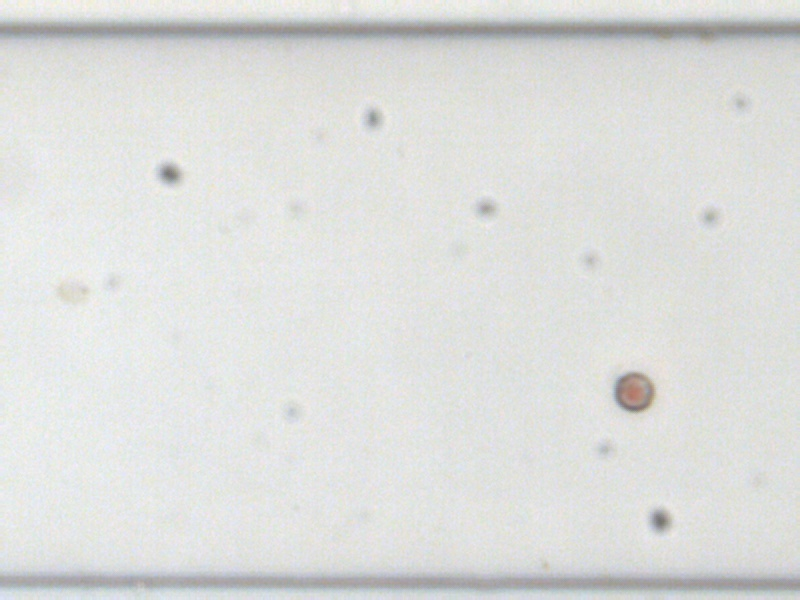Porphyridium: (610, 372, 655, 412)
